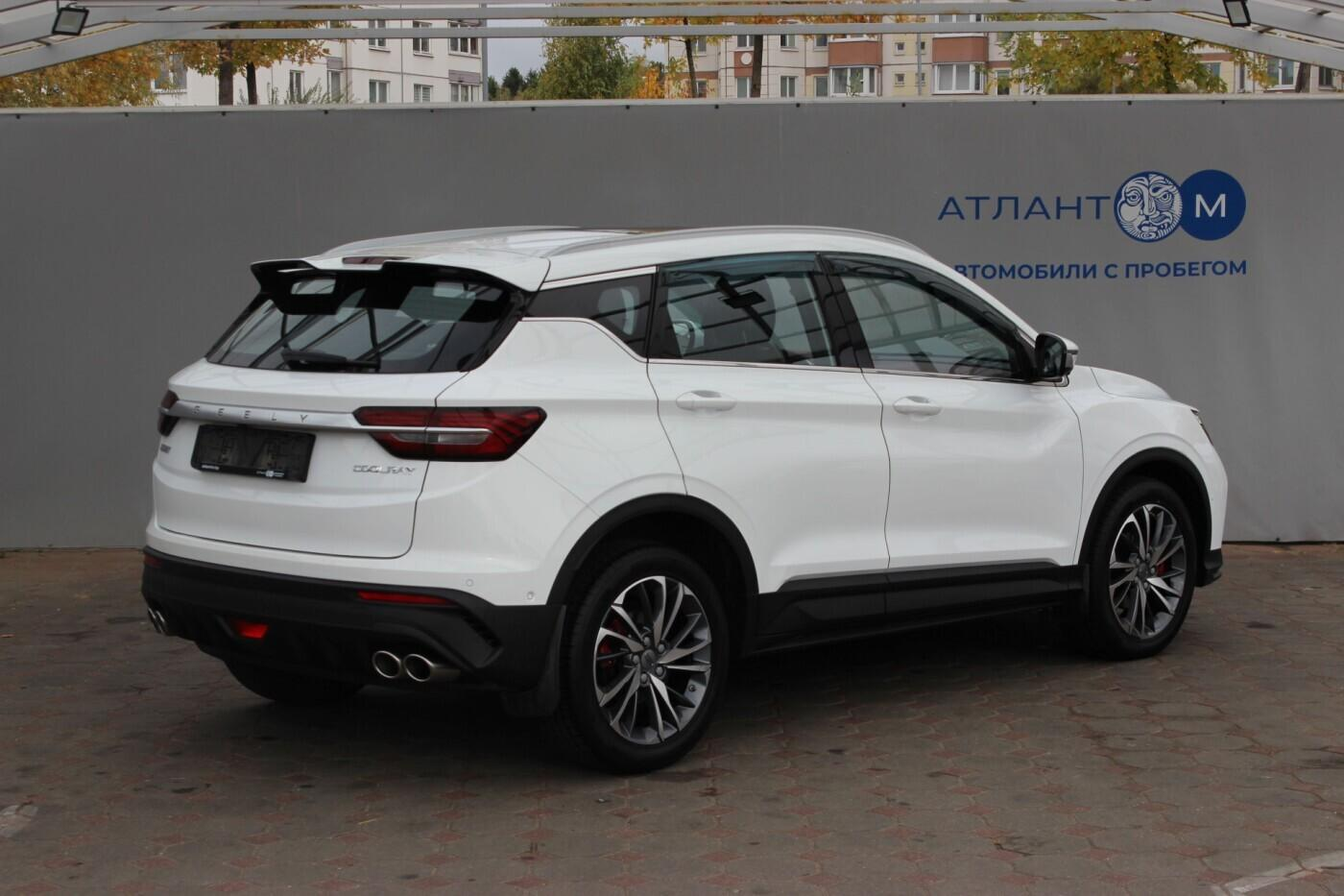Coolray_2019-2023: (143, 221, 1230, 773)
